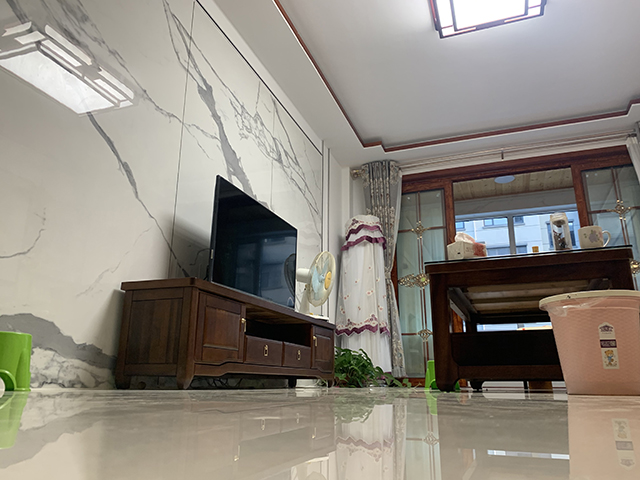cabinet: (112, 276, 338, 390)
curtain: (360, 159, 407, 378)
stool: (1, 330, 35, 392), (424, 359, 437, 389)
table: (423, 244, 637, 393)
trashcan: (539, 288, 640, 398)
